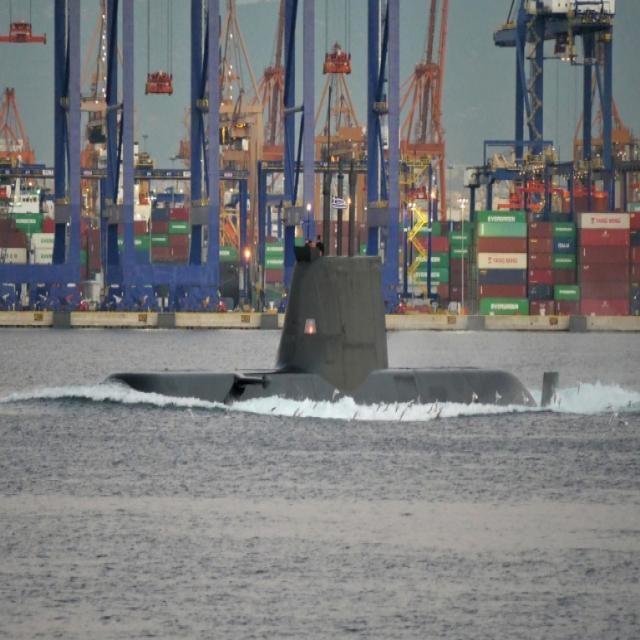submarine: (103, 240, 560, 413)
